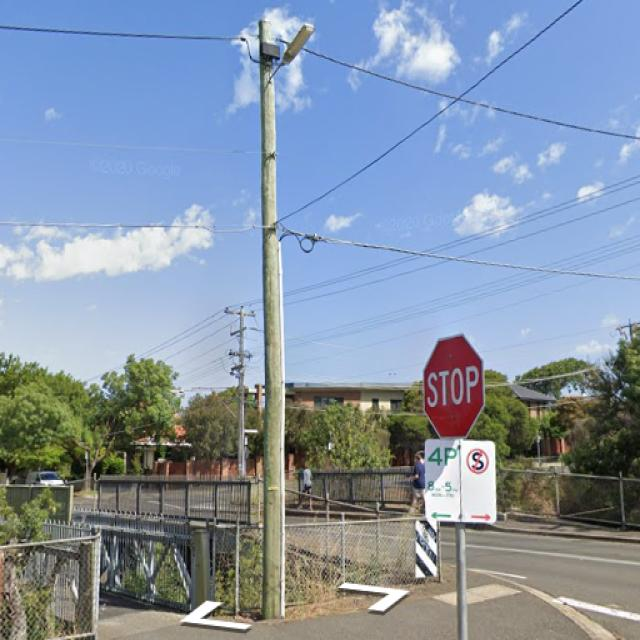crossarm: (224, 307, 258, 319), (228, 348, 252, 361), (230, 325, 249, 338)
streetlight: (265, 22, 316, 85)
timber-pole: (258, 18, 286, 621), (238, 305, 246, 506)
